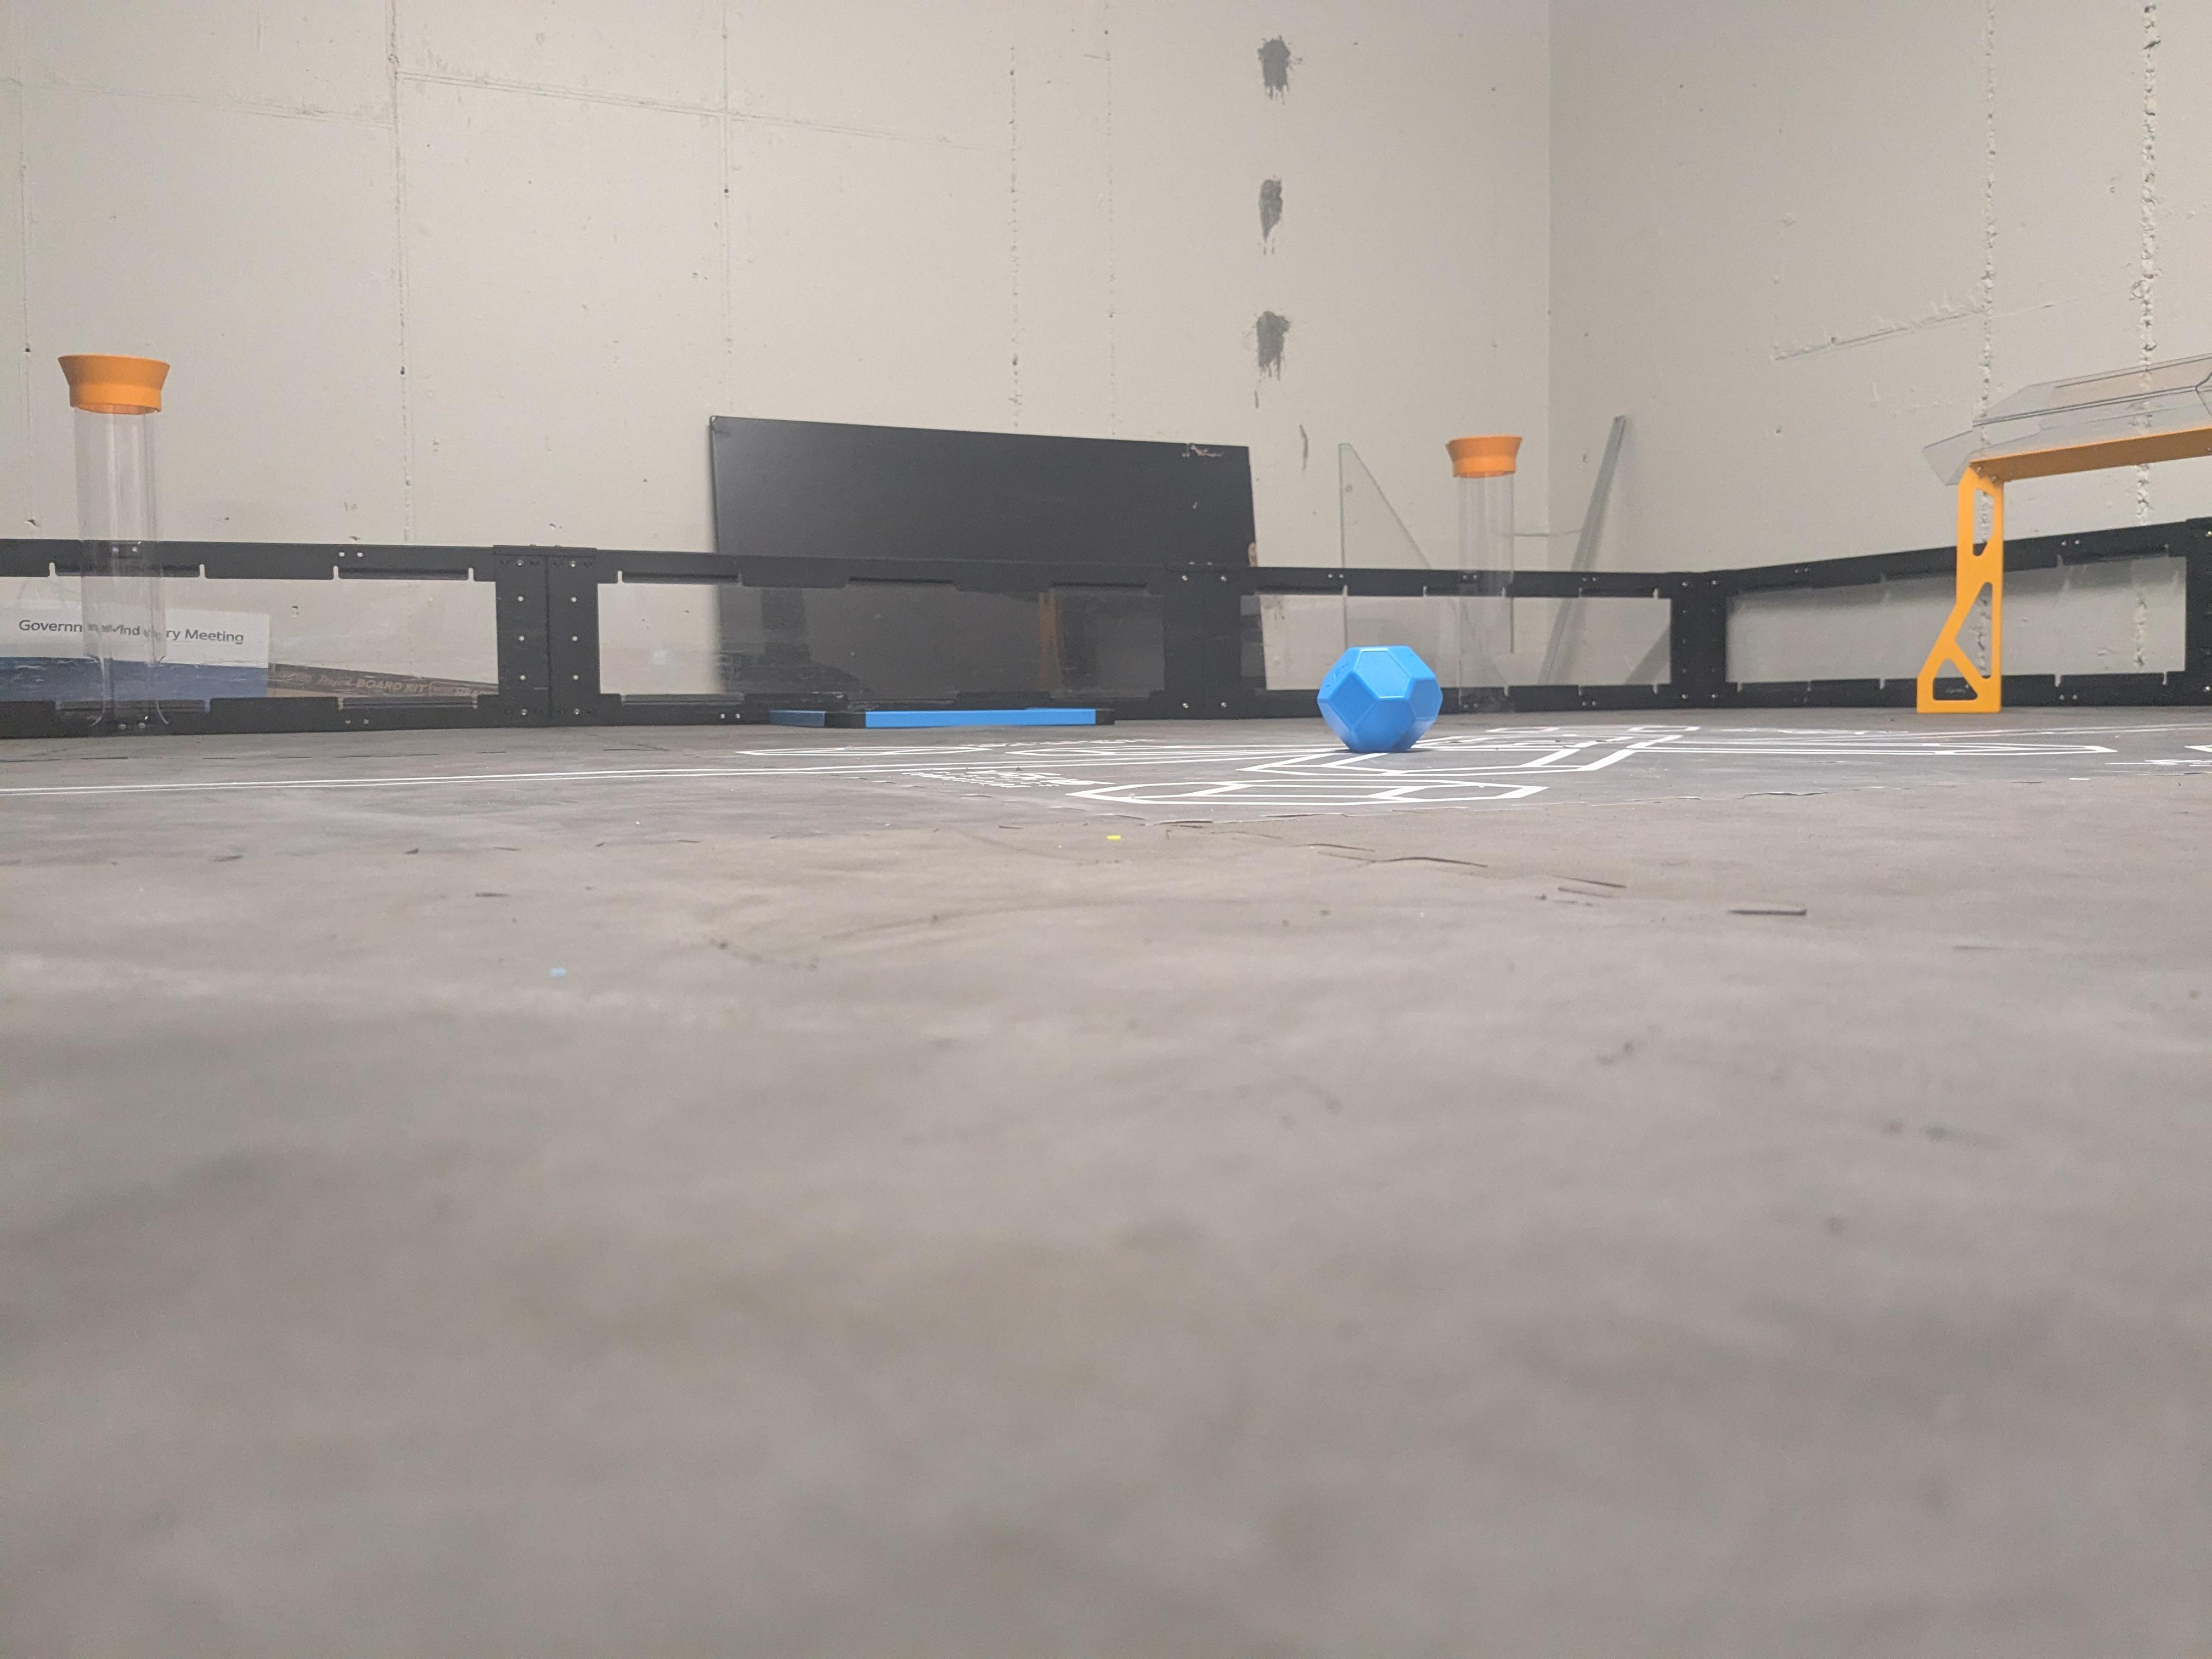Vex-Pieces-BLUE: (1320, 647, 1440, 751)
